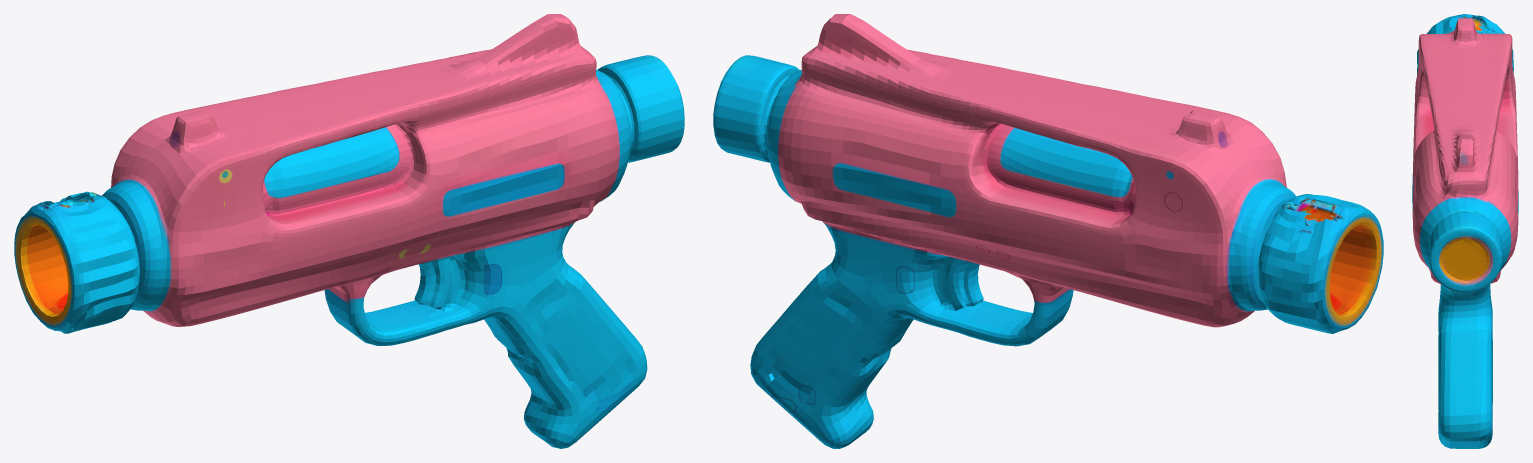
The model's file is Meshy_AI_stylized_low_poly_toy_0326103423_texture.fbx.
3 views of the same model, side by side, from view 1: azimuth 30°, elevation 25°; view 2: azimuth 150°, elevation 25°; view 3: azimuth 270°, elevation 25° (orthographic). The views are drawn at different scales.
Parts seen in each view (by area): view 1: temp; view 2: temp; view 3: temp.
Boxes of the visible parts, left/top/right/bottom form: temp: left=14, top=14, right=684, bottom=448; temp: left=713, top=14, right=1383, bottom=448; temp: left=1412, top=14, right=1518, bottom=448.
Bounding box in the file's own units: 191 × 126 × 39.17.
Materials: 1 (1 with a texture image).
